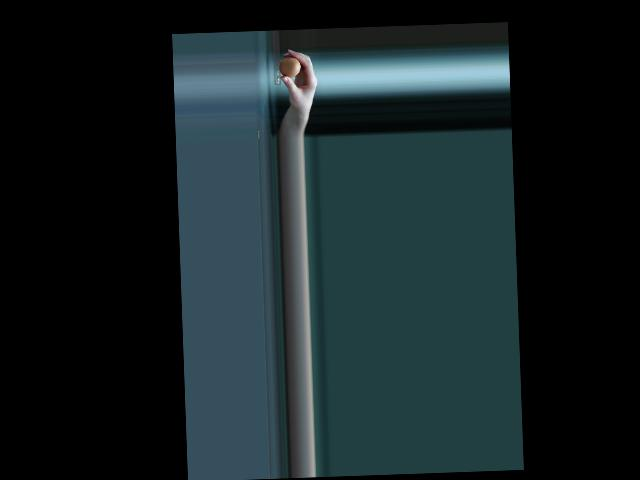egg: (278, 56, 301, 77)
